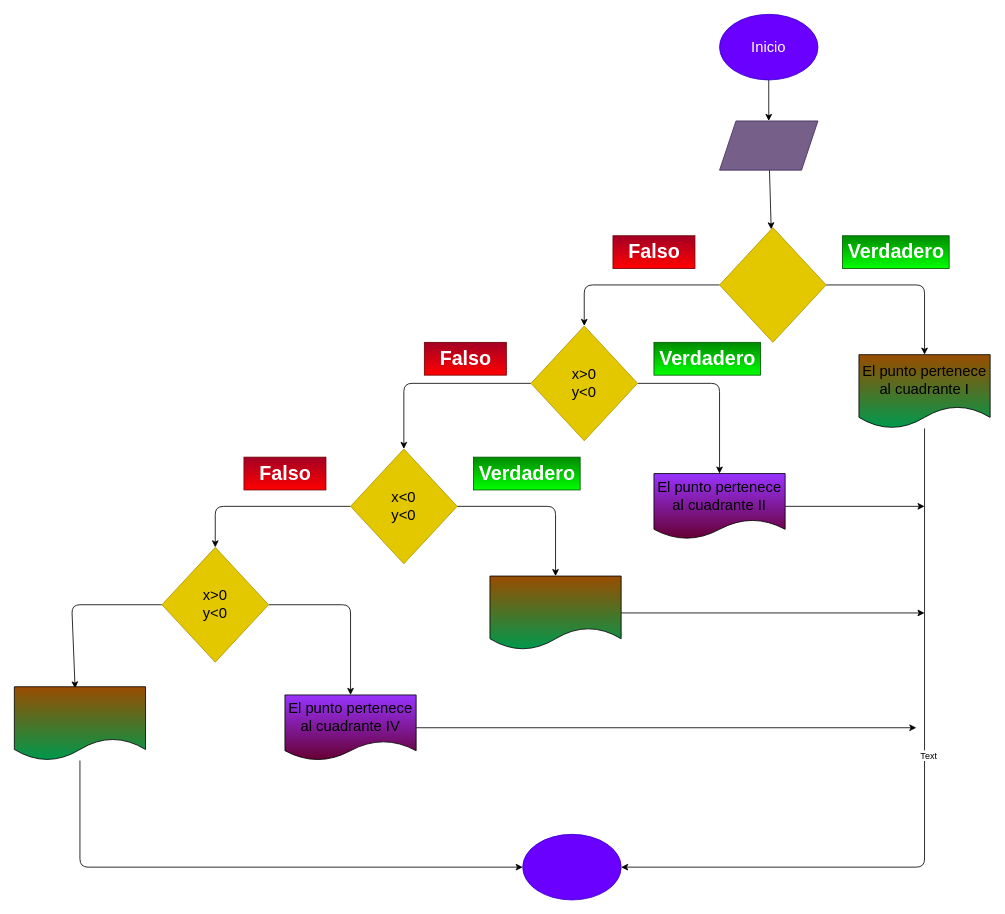
Some shapes in this 1005 by 914 pixel diagram are drawn without their labels. The centre of each missing label's shape, as x and y in pixels:
"El punto pertenece al cuadrante III" belongs at pixel 555 612.
"Fin" belongs at pixel 571 867.
"La coordenada no existe" belongs at pixel 80 723.
"x,y" belongs at pixel 768 145.
"x>0 y>0" belongs at pixel 772 284.
